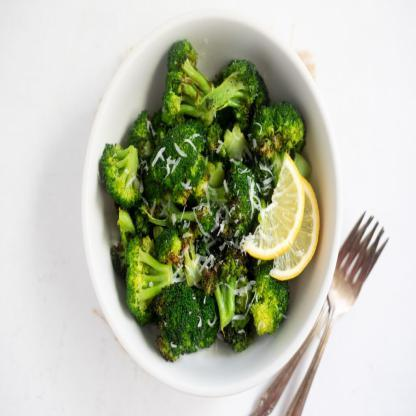broccoli: (100, 38, 312, 362)
